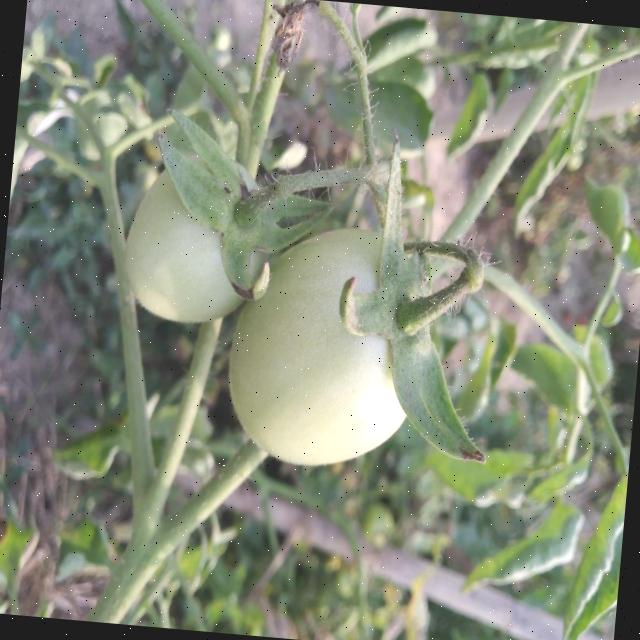Unripe: (217, 220, 443, 474), (118, 145, 276, 328)
